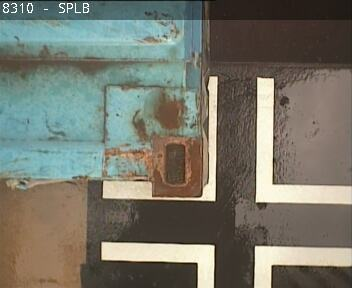groundmarker_1: (102, 76, 351, 206)
